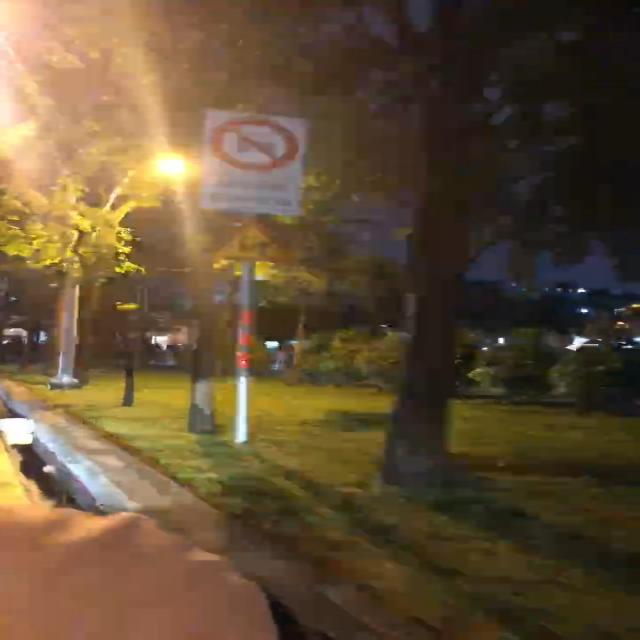Bien bao cam xe oto: (202, 111, 312, 175)
